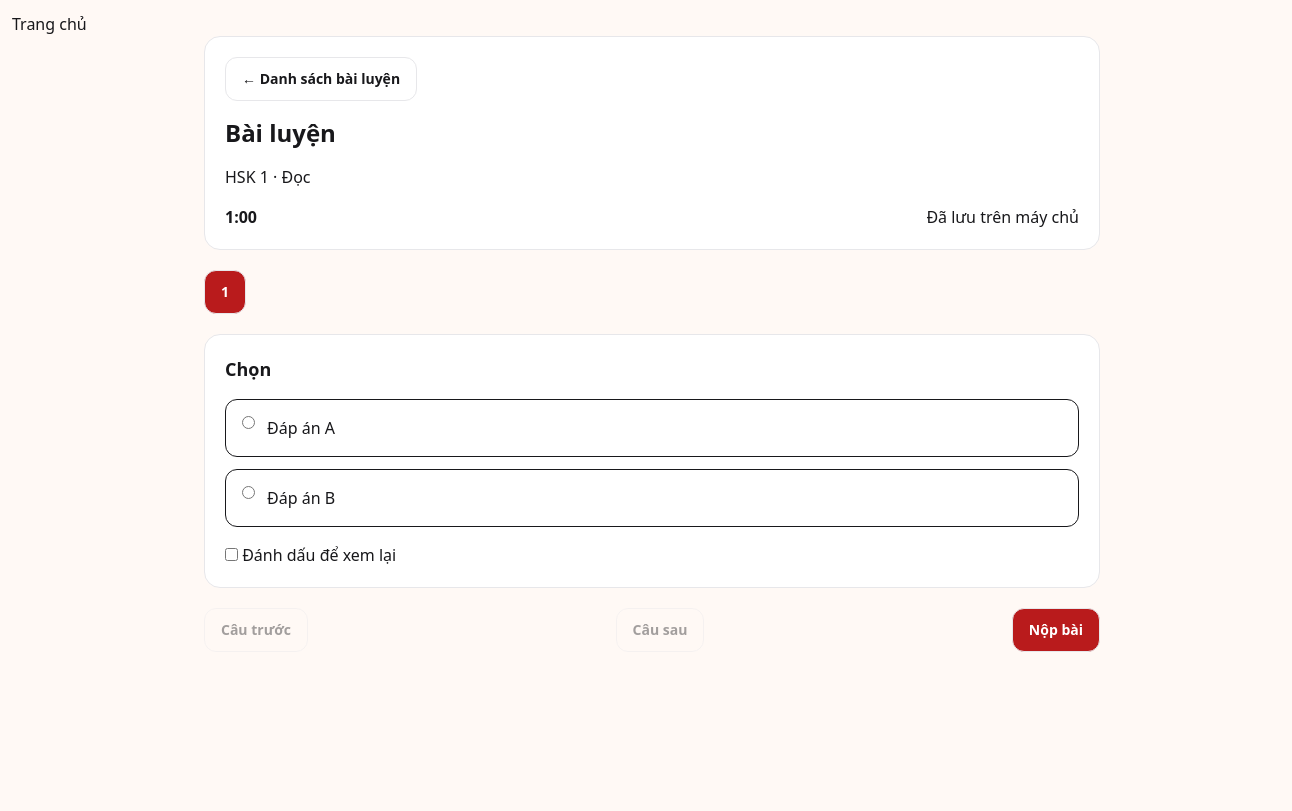
Scenario: stays on the attempt and retains the answer when saving before navigation fails
The image size is (1292, 811).
Click the radio button labelled "Đáp án A" at (248, 422), box [242,416,255,429]
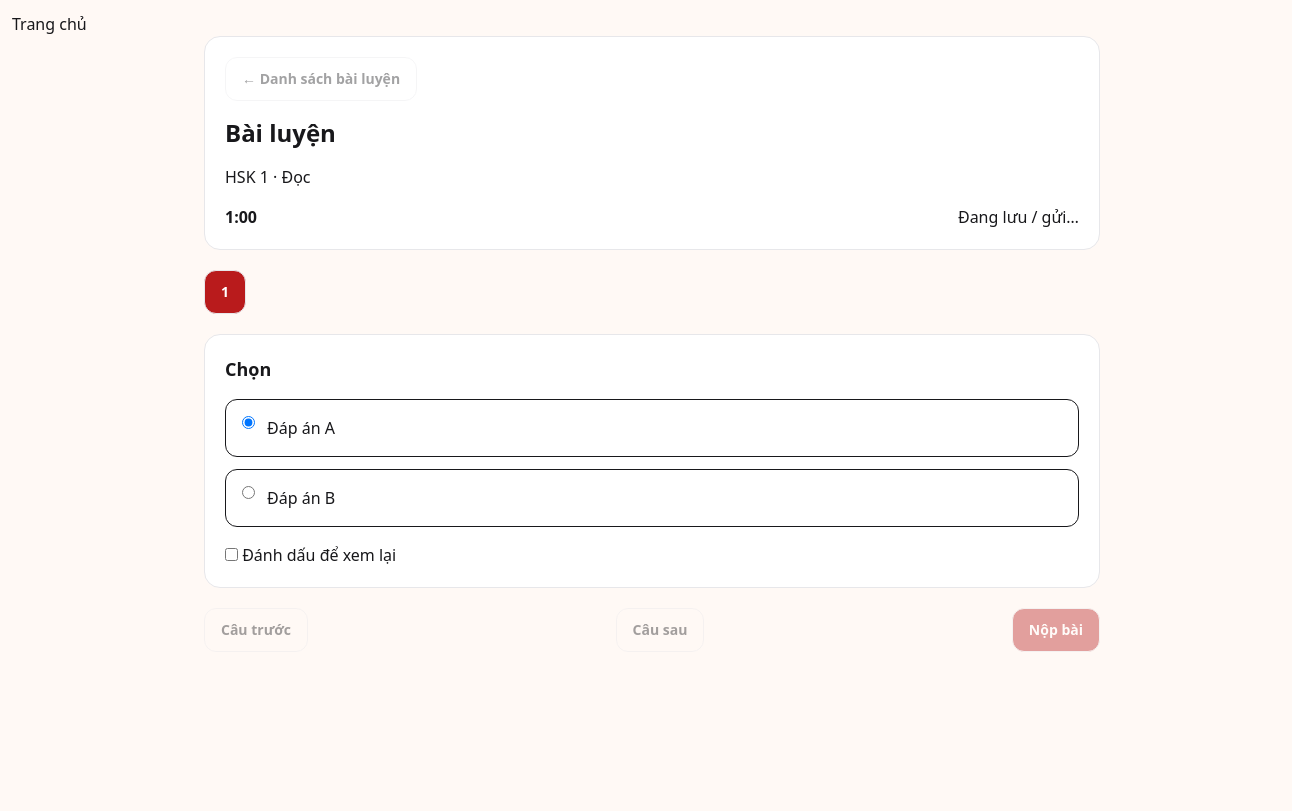
Click the link "Trang chủ" at (49, 24), box [12,13,87,35]
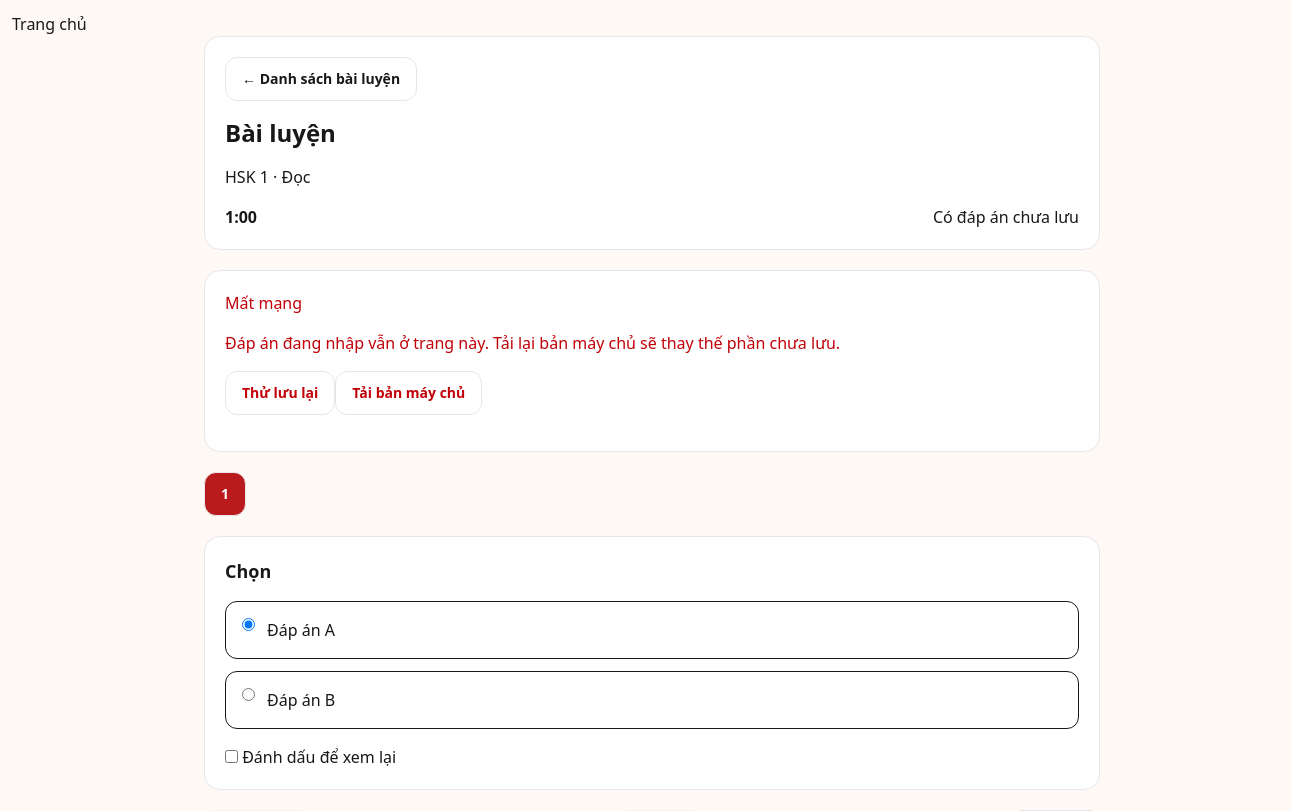
Result: the radio button labelled "Đáp án A" is checked at [242,618,255,631]
Result: the message shows "Mất mạng" at [225,292,302,314]
